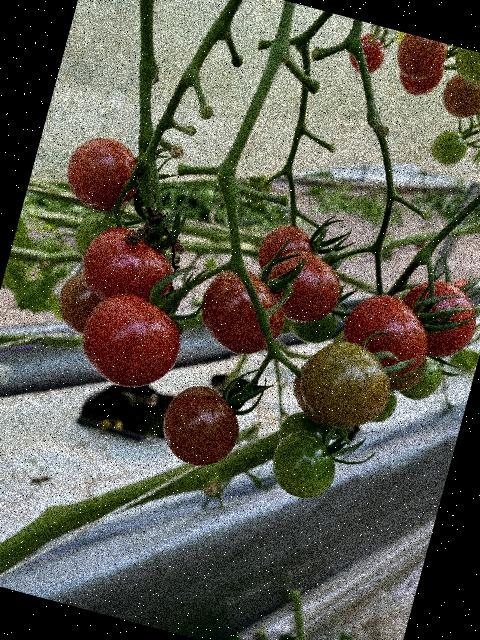l_fully_ripened: (72, 283, 192, 399), (334, 285, 440, 388), (74, 220, 183, 318), (390, 272, 480, 367), (58, 130, 149, 220), (253, 243, 347, 330), (253, 219, 322, 286), (394, 54, 444, 102), (345, 30, 389, 78)
l_green: (263, 426, 344, 506), (70, 208, 130, 270), (283, 299, 342, 350), (397, 350, 448, 406), (276, 409, 336, 453), (427, 125, 470, 170), (450, 47, 480, 87), (372, 386, 400, 426)
l_half_ripened: (289, 331, 400, 438), (191, 260, 296, 363), (152, 378, 249, 476), (50, 266, 106, 338), (392, 32, 450, 86), (437, 71, 480, 123), (387, 349, 429, 397)
